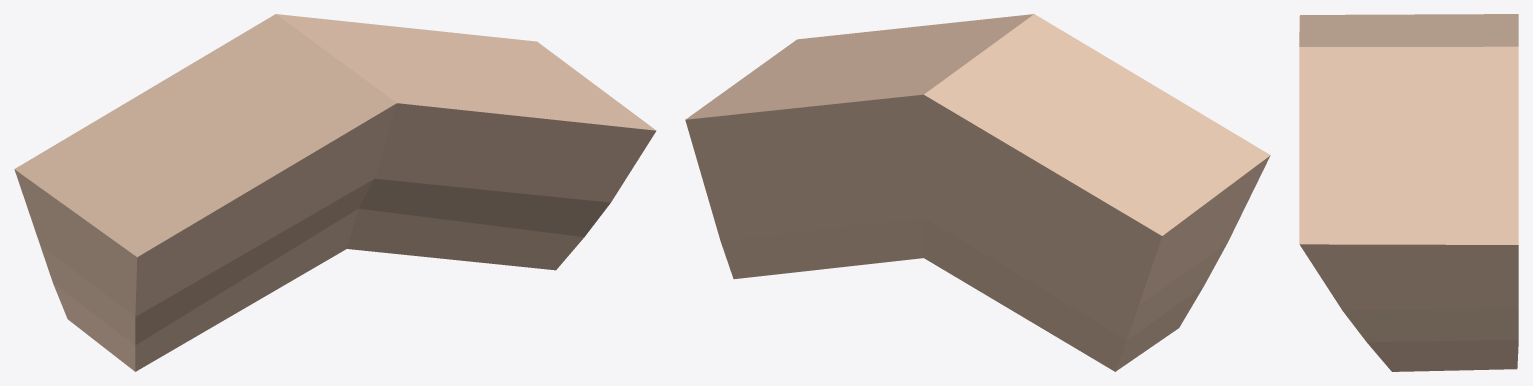
File: roofcrown.fbx
3 renders of one model, left to right at view 1: azimuth 30°, elevation 25°; view 2: azimuth 150°, elevation 25°; view 3: azimuth 270°, elevation 25°, orthographic. The views are drawn at different scales.
Visible parts, largest first — view 1: crowntopperlowpoyl.001; view 2: crowntopperlowpoyl.001; view 3: crowntopperlowpoyl.001.
Boxes of the visible parts, bbox=[...] form: crowntopperlowpoyl.001: bbox=[14, 14, 656, 371]; crowntopperlowpoyl.001: bbox=[685, 14, 1270, 371]; crowntopperlowpoyl.001: bbox=[1299, 14, 1518, 371].
Bounding box in the file's own units: 607 × 284 × 244.
